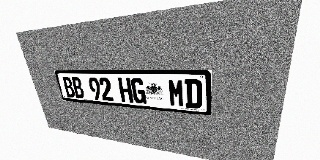2: (98, 77, 114, 101)
9: (88, 77, 103, 100)
B: (71, 77, 85, 99), (62, 77, 76, 98)
D: (185, 79, 202, 109)
G: (130, 78, 147, 104)
H: (118, 78, 134, 103)
M: (168, 79, 185, 107)
